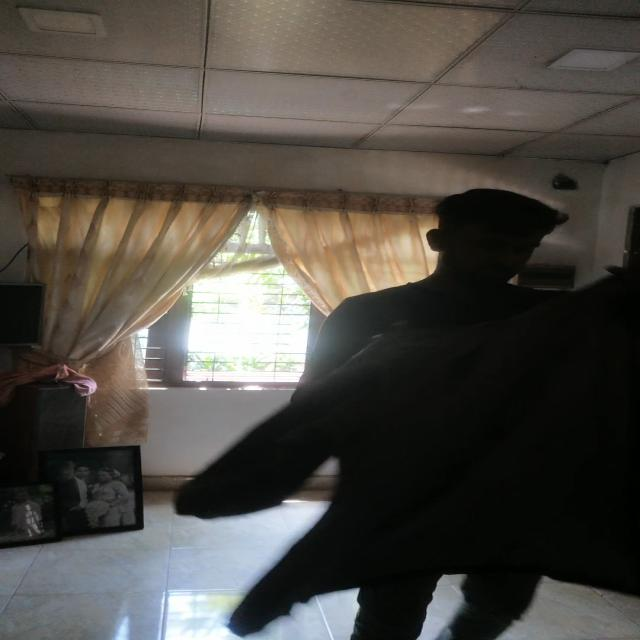Person: (316, 190, 568, 640)
